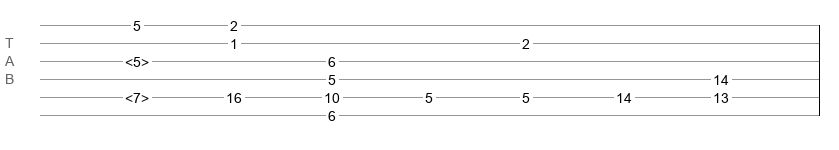1: (230, 36, 238, 46)
10: (324, 90, 340, 100)
13: (713, 90, 729, 100)
14: (616, 90, 632, 100), (713, 72, 729, 82)
16: (226, 90, 242, 100)
2: (230, 18, 238, 28), (522, 36, 530, 46)
5: (133, 18, 141, 28), (328, 72, 336, 82), (425, 90, 433, 100), (522, 90, 530, 100)
6: (328, 108, 336, 118), (328, 54, 336, 64)
harmonic: (125, 54, 149, 64), (125, 90, 149, 100)
